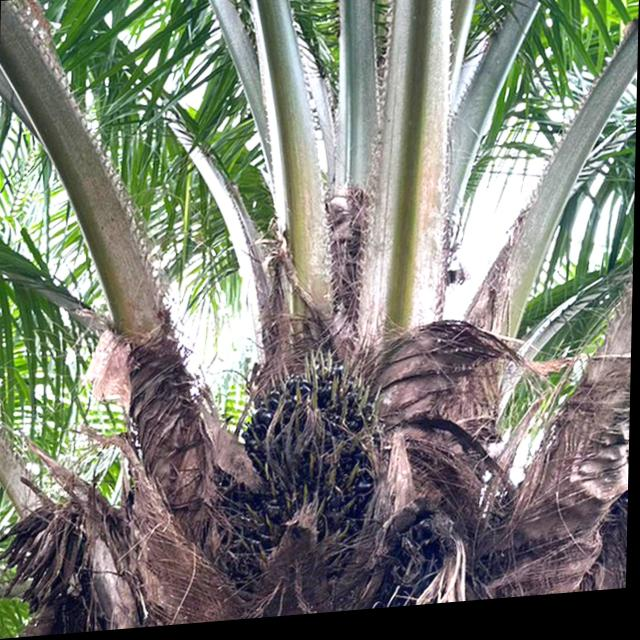unripe: (202, 350, 410, 593)
